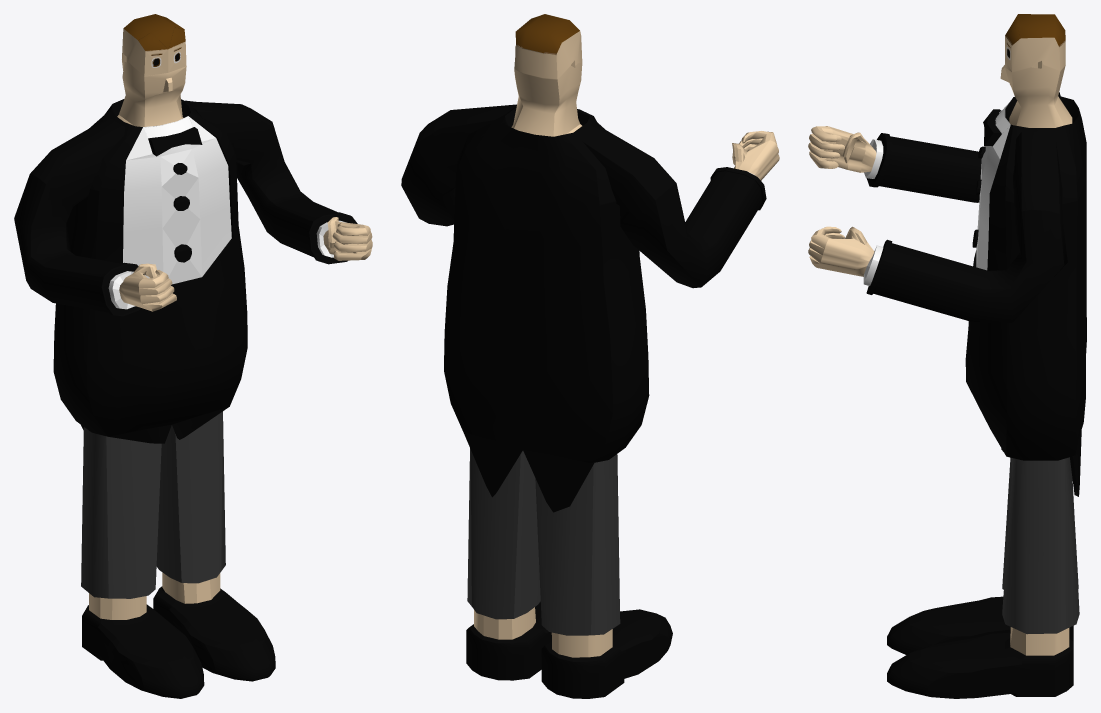
File: enemy.fbx
The picture shows the model from 3 angles, left to right: view 1: azimuth 30°, elevation 25°; view 2: azimuth 150°, elevation 25°; view 3: azimuth 270°, elevation 25°; orthographic projection. The views are drawn at different scales.
Parts seen in each view (by area): view 1: pasted__pCube5; view 2: pasted__pCube5; view 3: pasted__pCube5.
Part boxes in pixels (x1=…): pasted__pCube5: x1=14, y1=14, x2=372, y2=698; pasted__pCube5: x1=401, y1=14, x2=779, y2=698; pasted__pCube5: x1=808, y1=14, x2=1086, y2=698.
Bounding box in the file's own units: 4.45 × 9.42 × 3.7.
